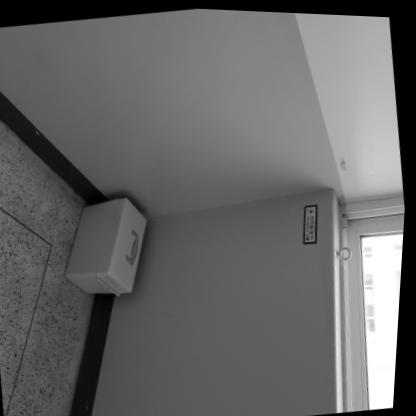DDL: (56, 190, 160, 303)
